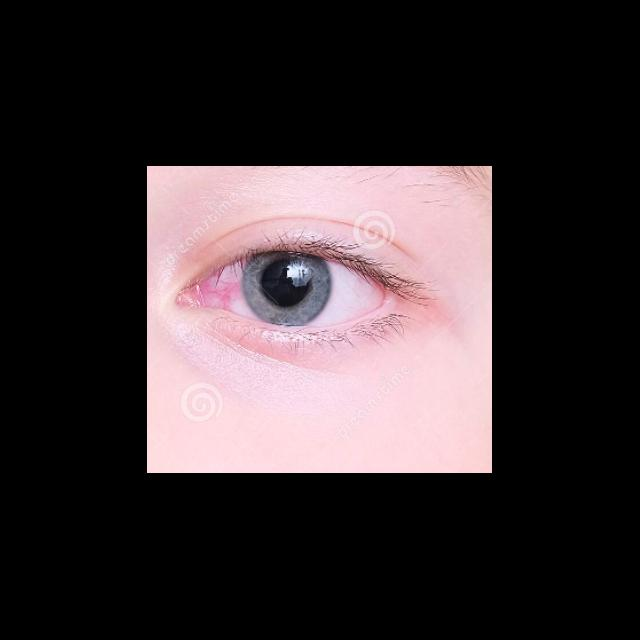eye: (207, 250, 384, 329)
iris: (244, 253, 330, 326)
